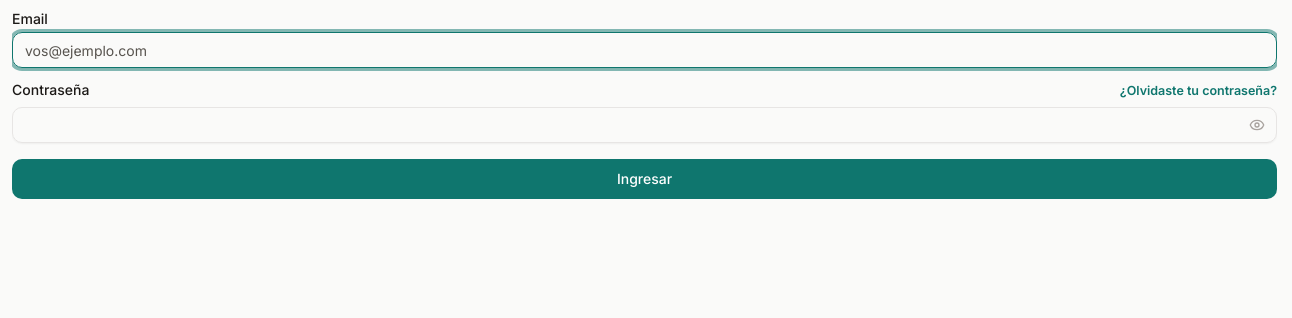
it: LoginForm › offers a resend button when the email is unconfirmed
Type "sosa@example.com" into the field labelled "Email".
click(644, 50); type("sosa@example.com")  # box [12,32,1277,68]
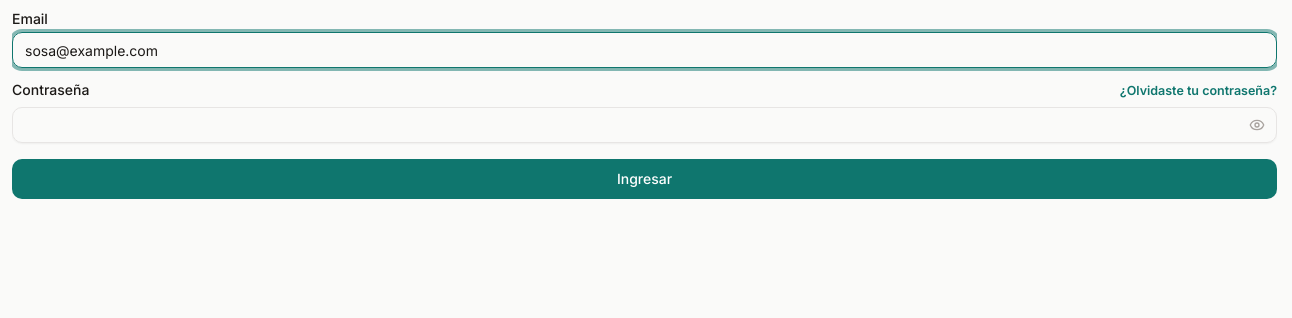
Type "secret123" into the password field labelled "Contraseña".
click(644, 125); type("secret123")  # box [12,107,1277,143]
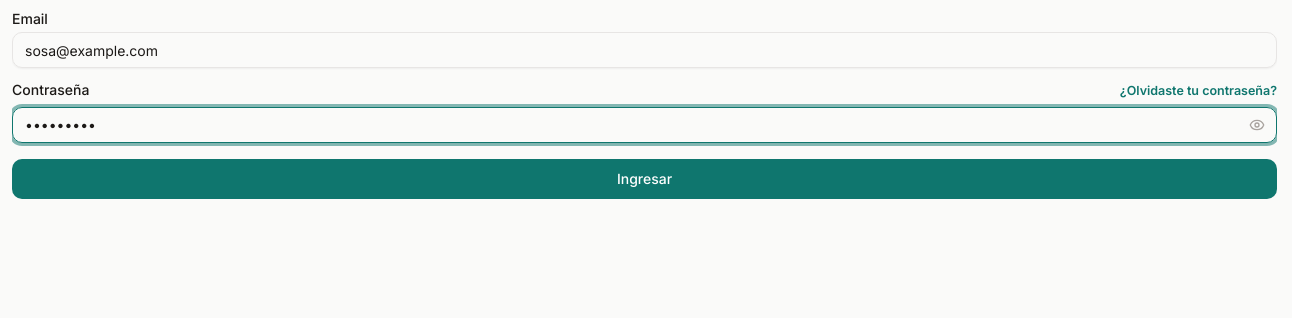
Click the button "Ingresar".
click(644, 179)  # box [12,159,1277,199]
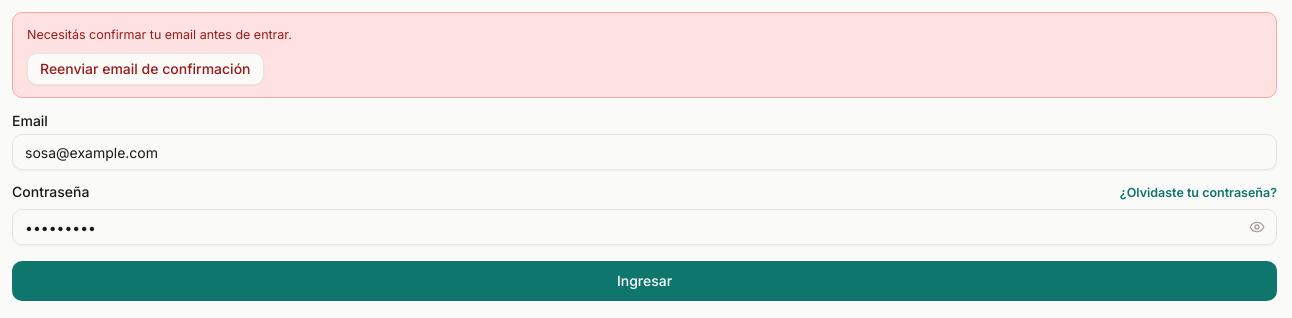
Click the button "Reenviar email de confirmación".
click(145, 69)  # box [27,53,264,85]
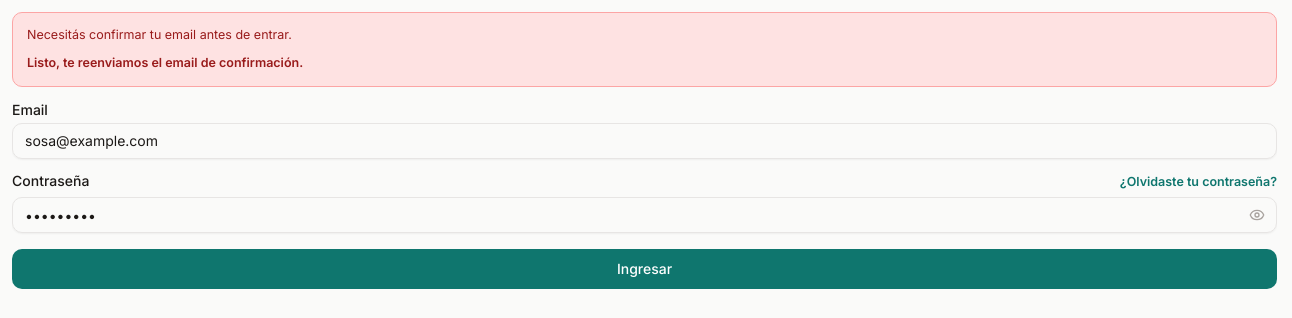
Result: the text "Listo, te reenviamos el email de confirmación." is shown at [27,55,303,70]
